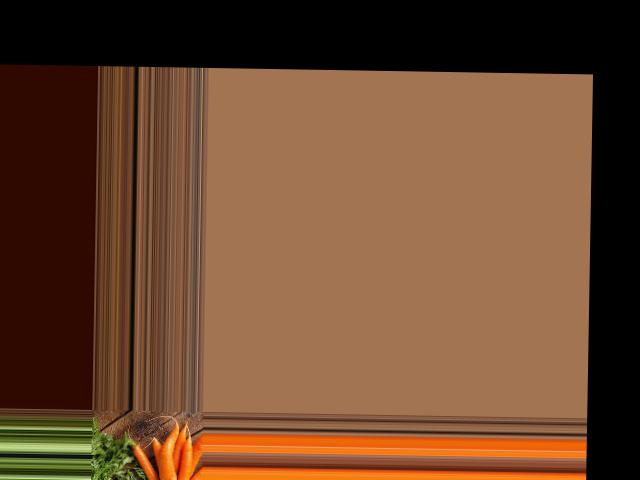carrot: (180, 469, 203, 480)
